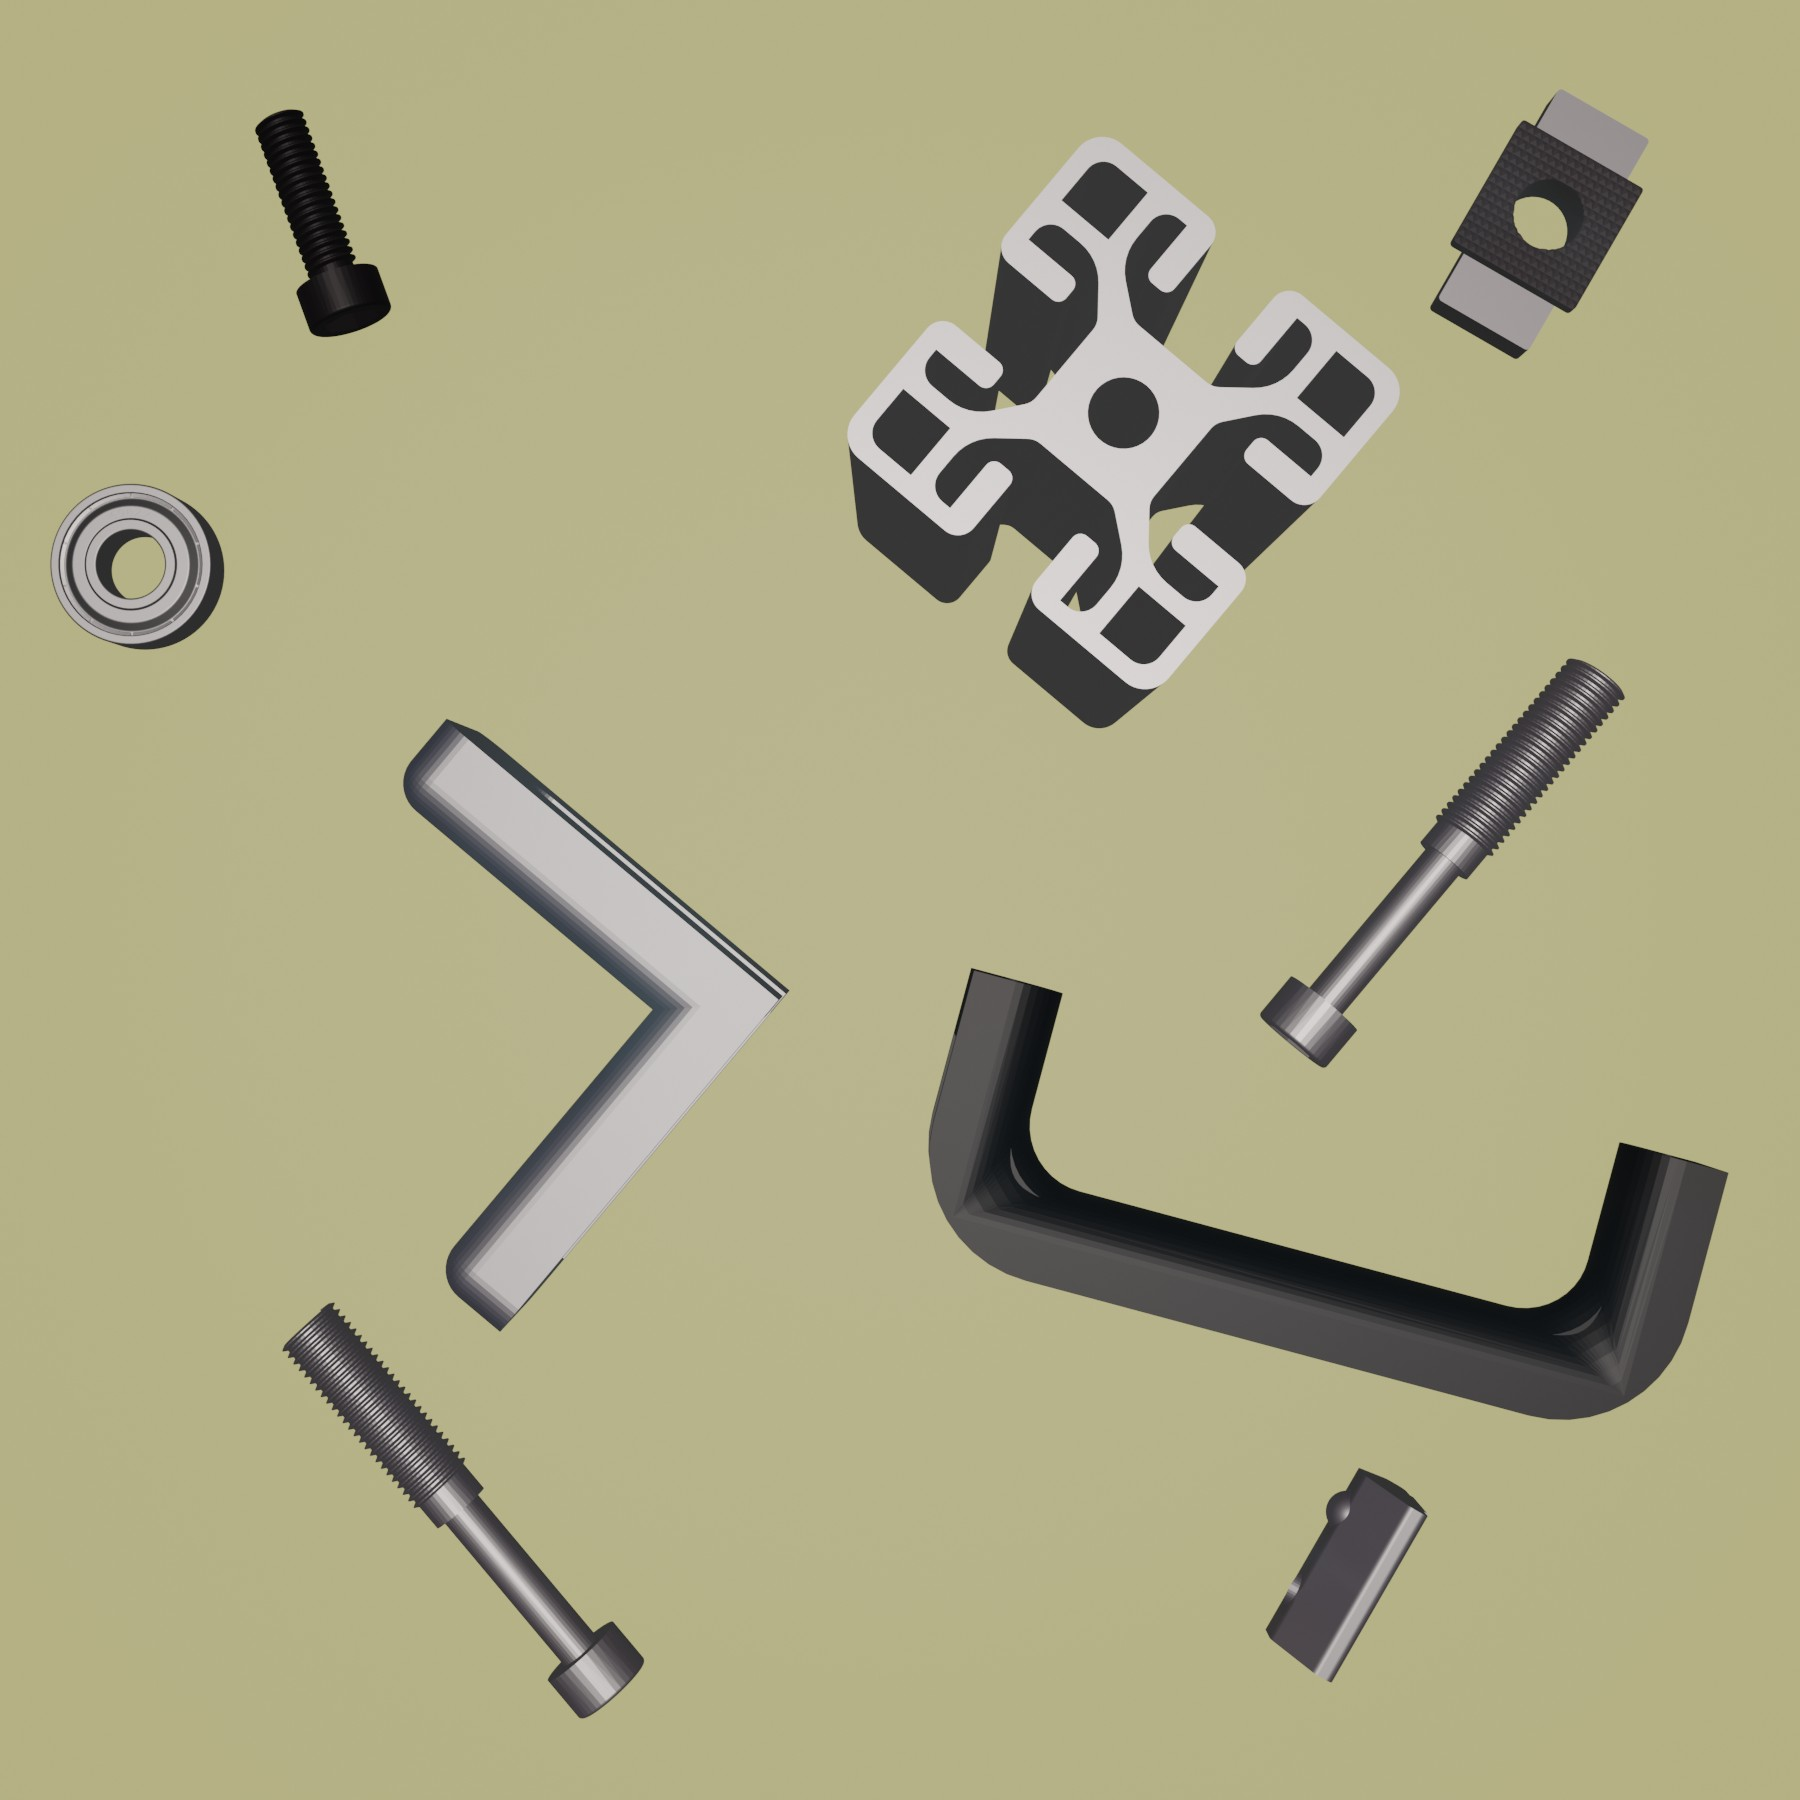Aluminium Extension: (846, 135, 1403, 730)
Ball Bearing: (48, 481, 227, 653)
Multiwinkel: (402, 719, 790, 1335)
Pull Handle: (925, 966, 1729, 1423)
Shoulder Socket Head Cap Screw: (279, 1301, 646, 1723), (1259, 658, 1627, 1071)
Socket Head Cap Screw: (255, 107, 392, 340)
T Nut Square: (1427, 86, 1652, 361)
T Spring Nut: (1263, 1464, 1431, 1686)
